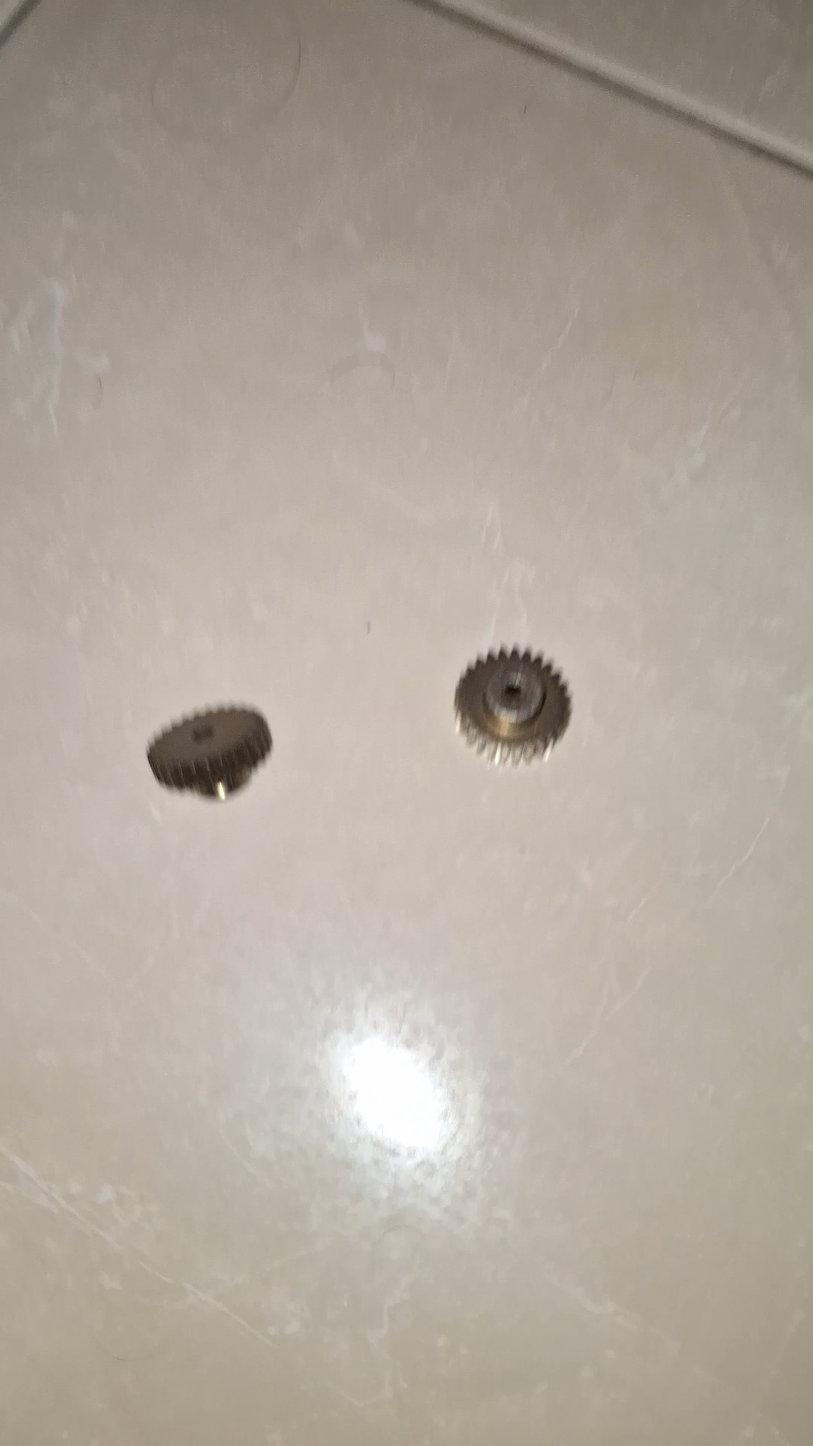spur gear: (455, 649, 570, 764), (148, 707, 271, 799)
